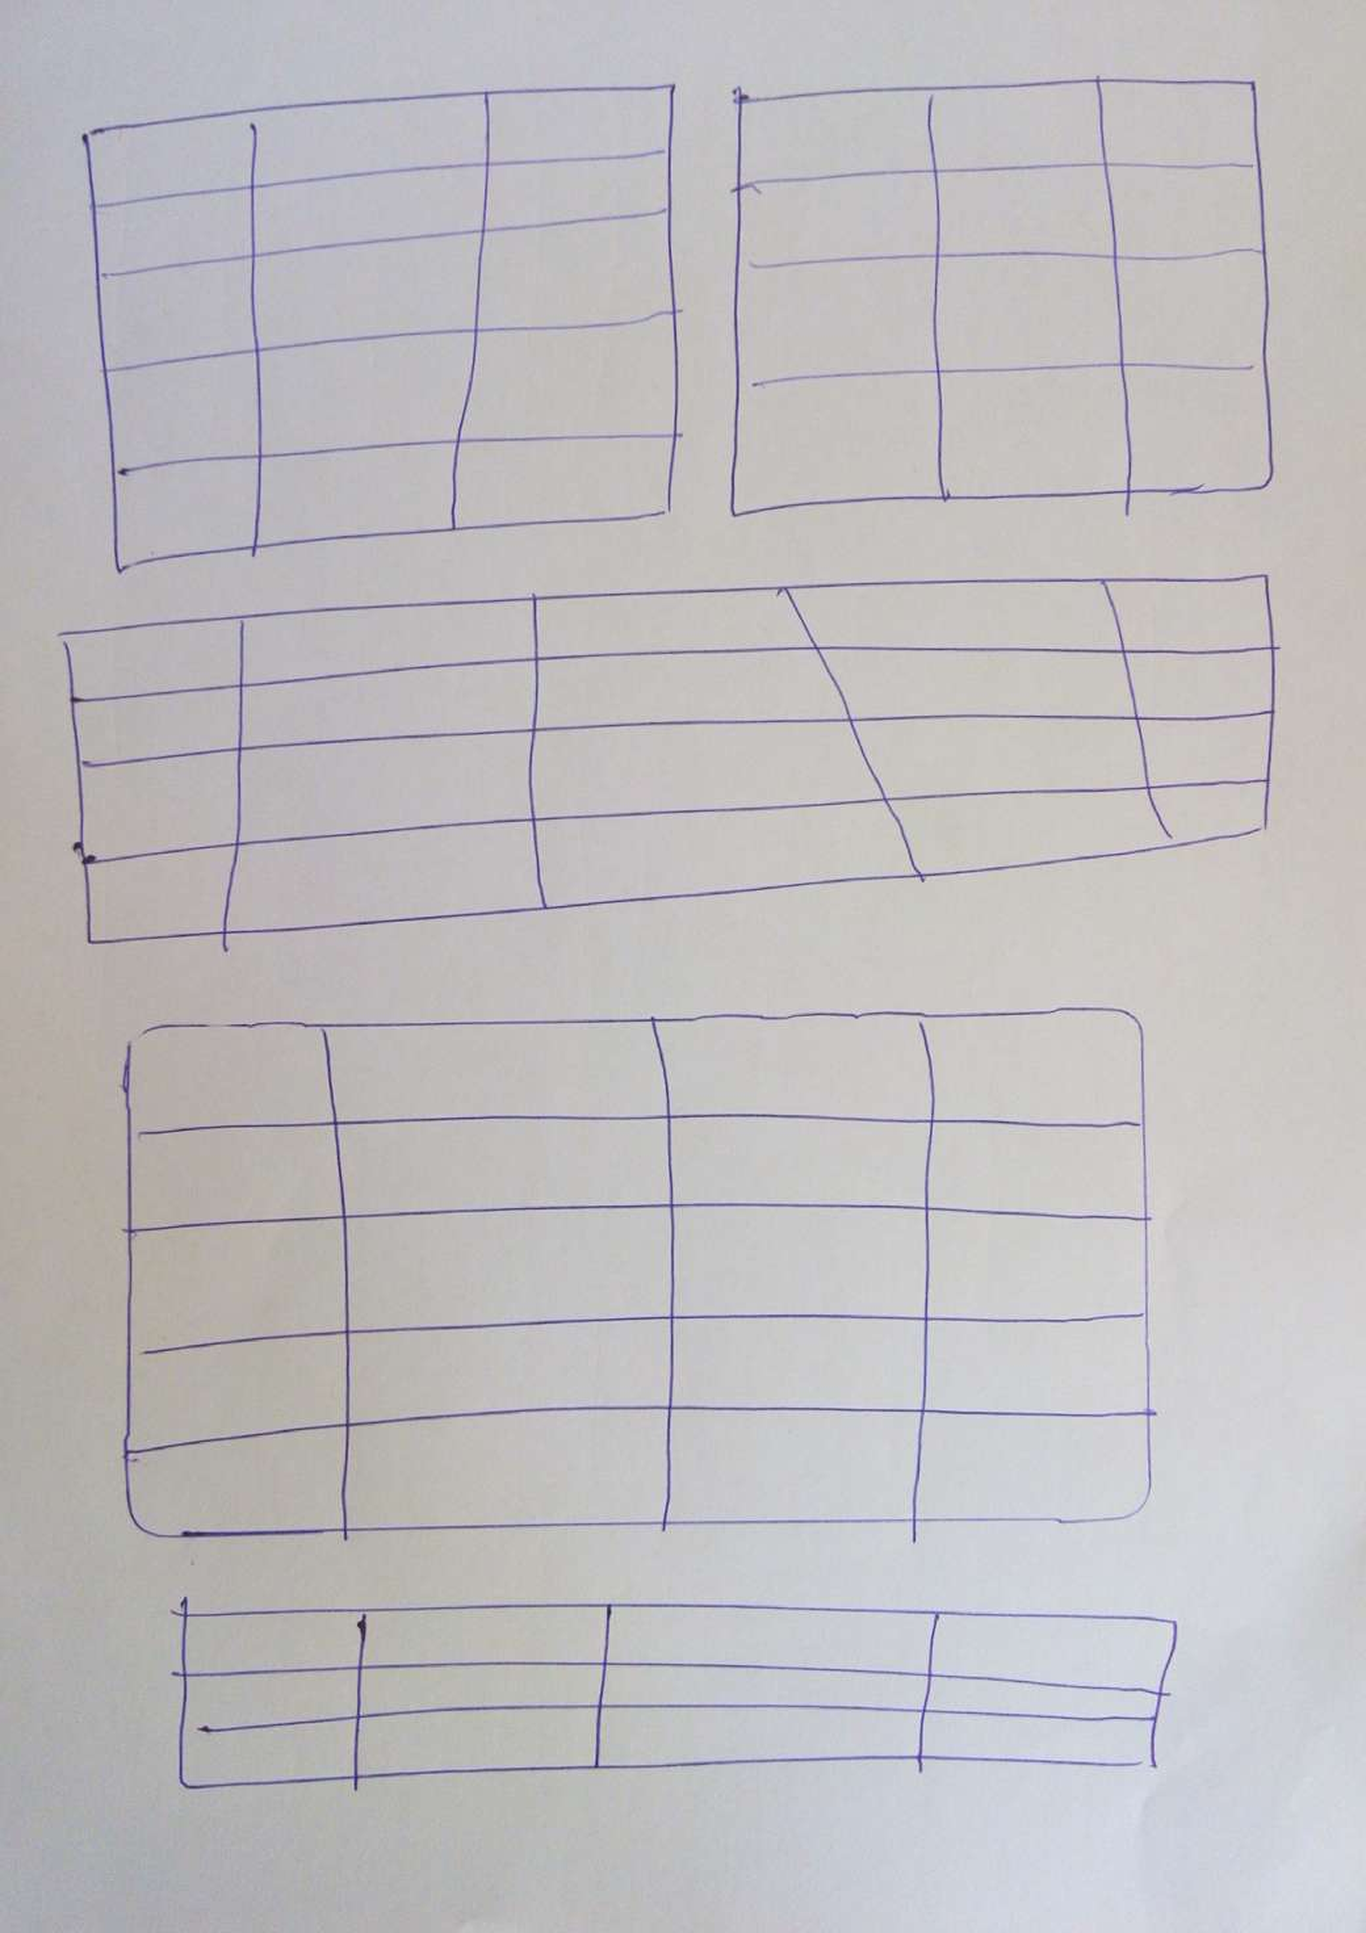Table: (121, 1006, 1158, 1543), (56, 573, 1280, 952), (81, 84, 683, 573), (730, 75, 1274, 517), (170, 1596, 1178, 1791)
